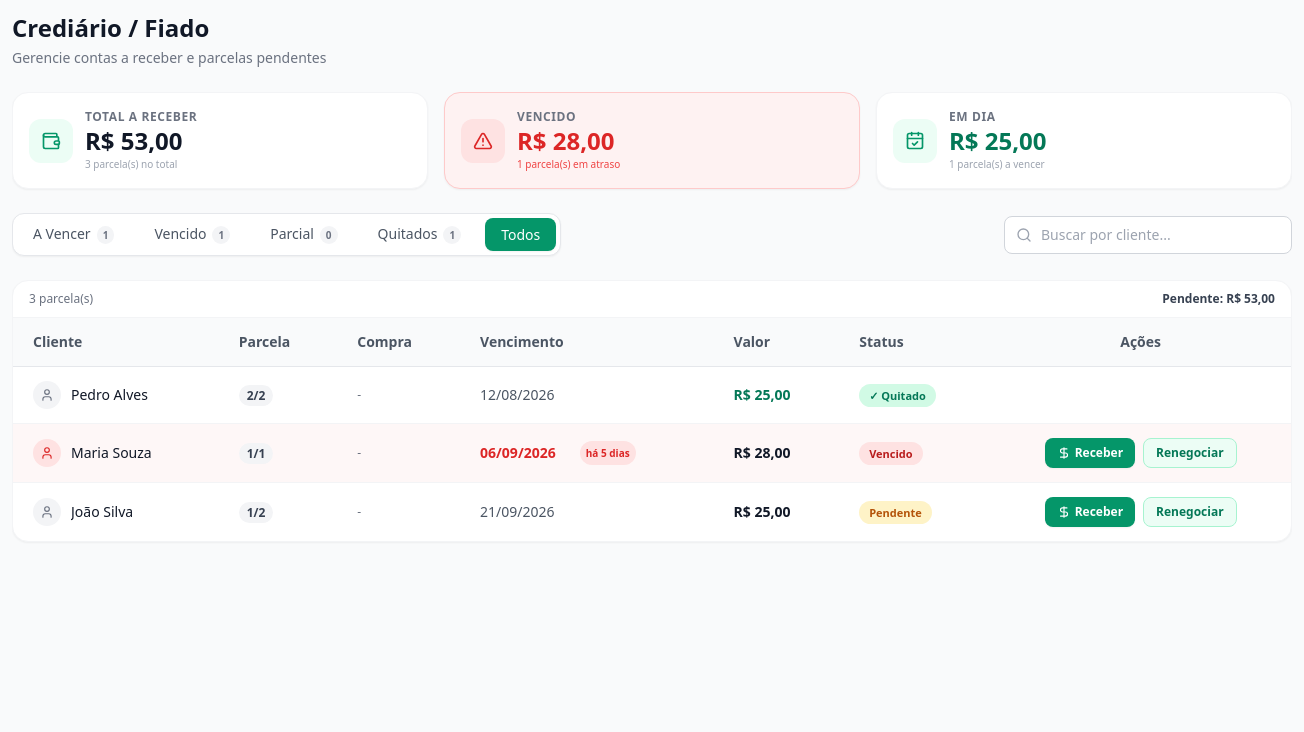
FiadoPage › filters by pago status
This screenshot has width=1304, height=732.
Click the button "Quitados1" at [419, 234], box [362,218,477,251]
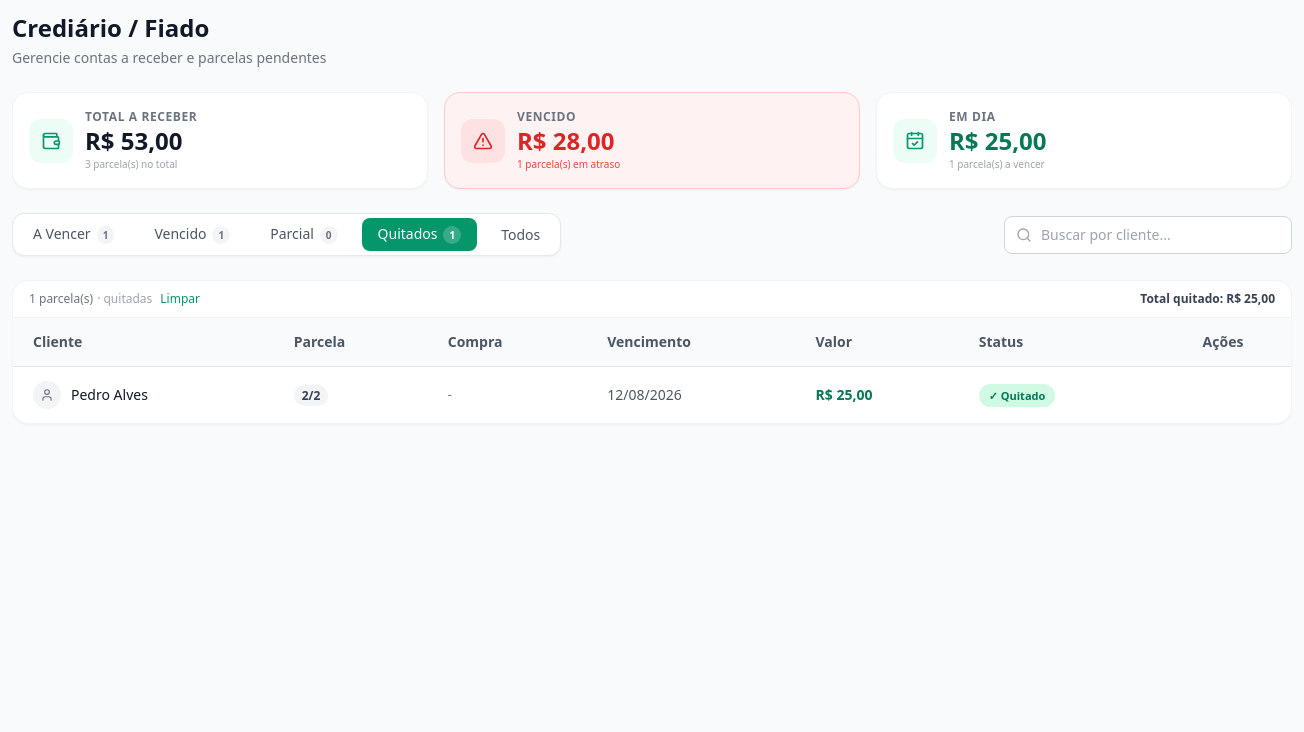
Check: the text "João Silva" is not shown
